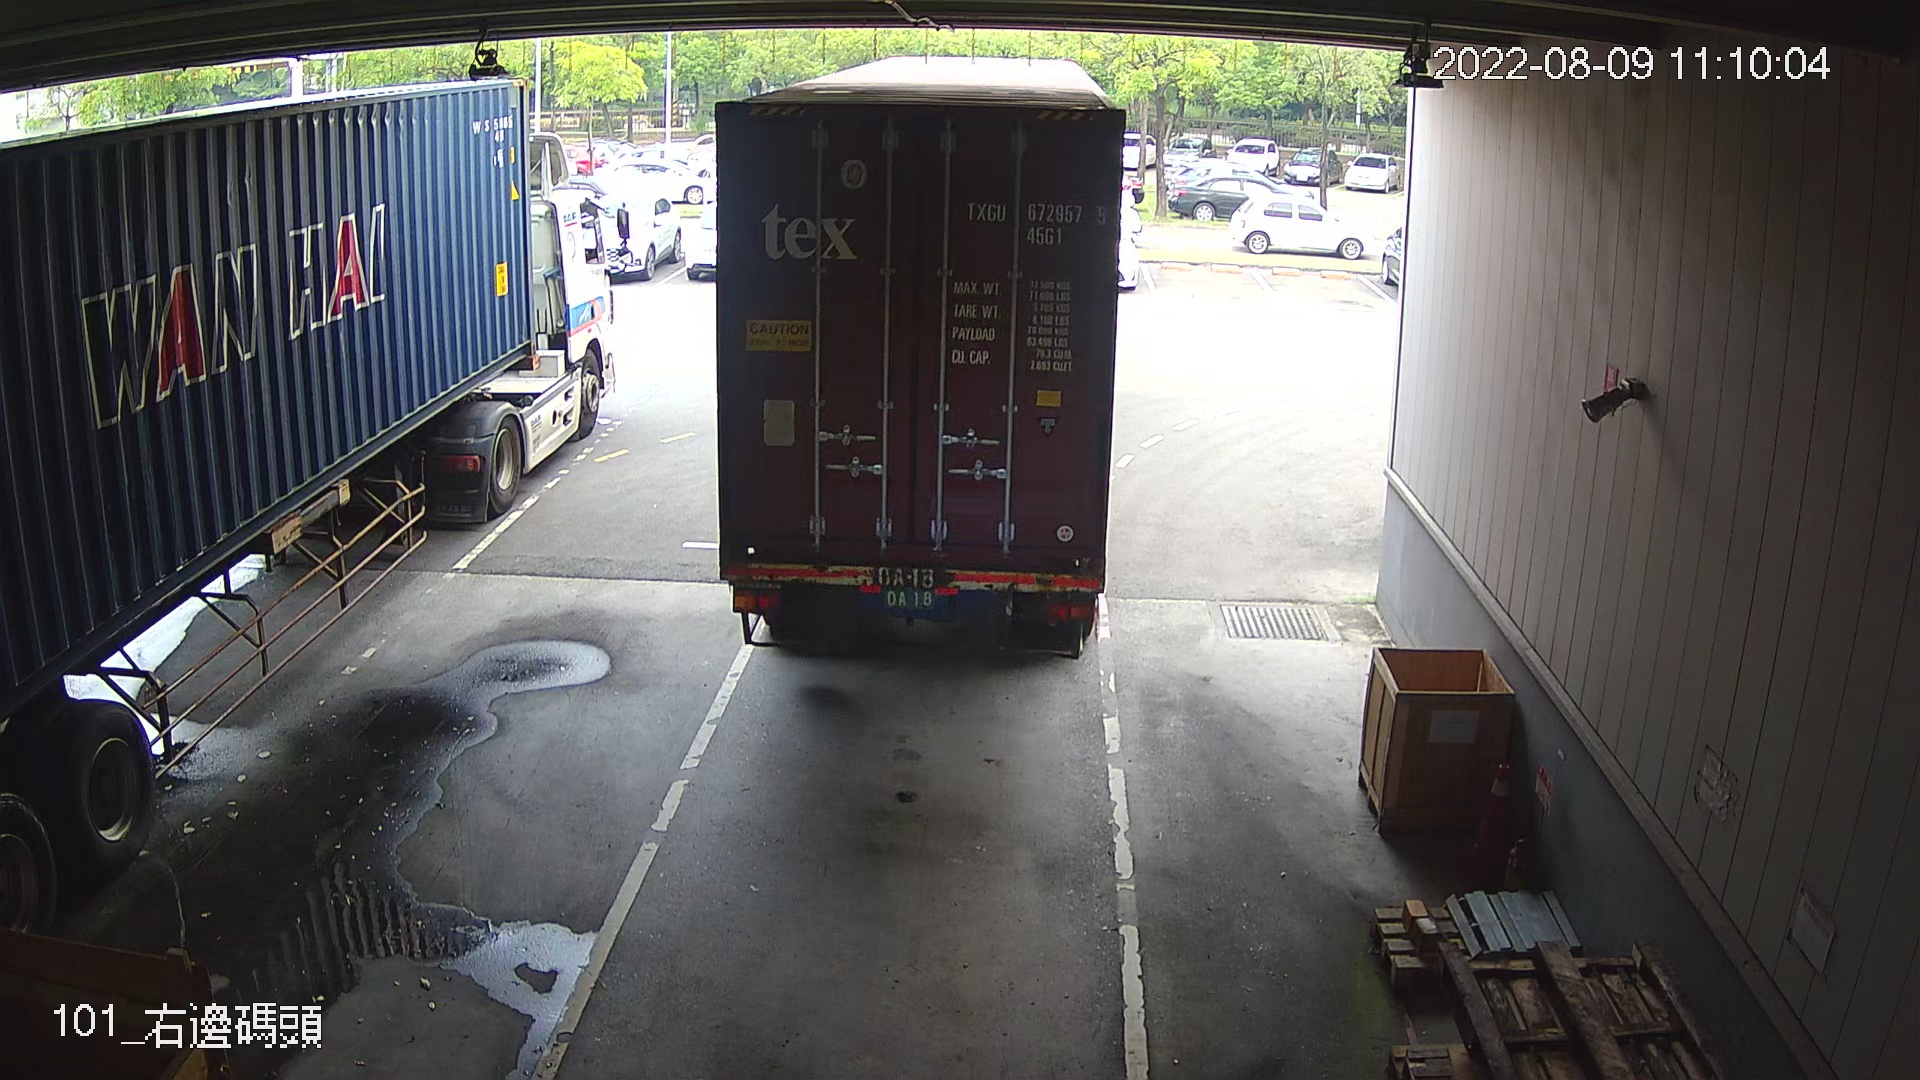container: (960, 194, 1113, 252)
